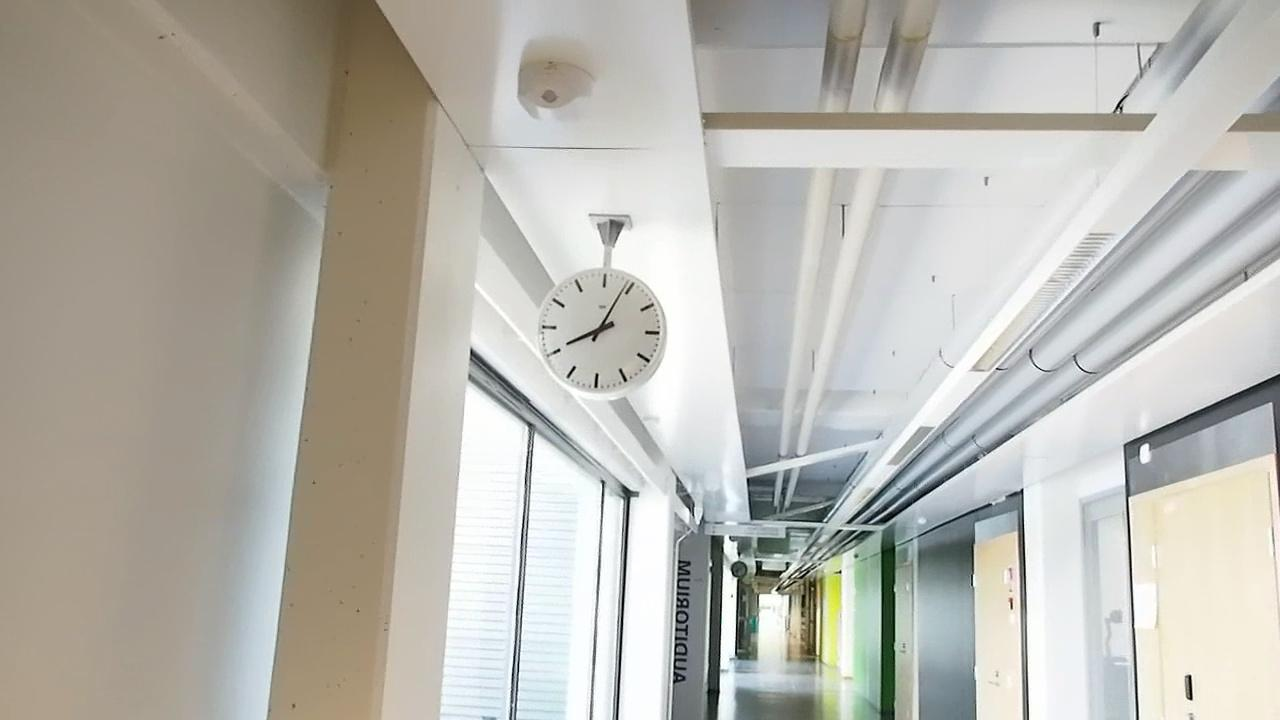clock: (530, 267, 668, 397)
